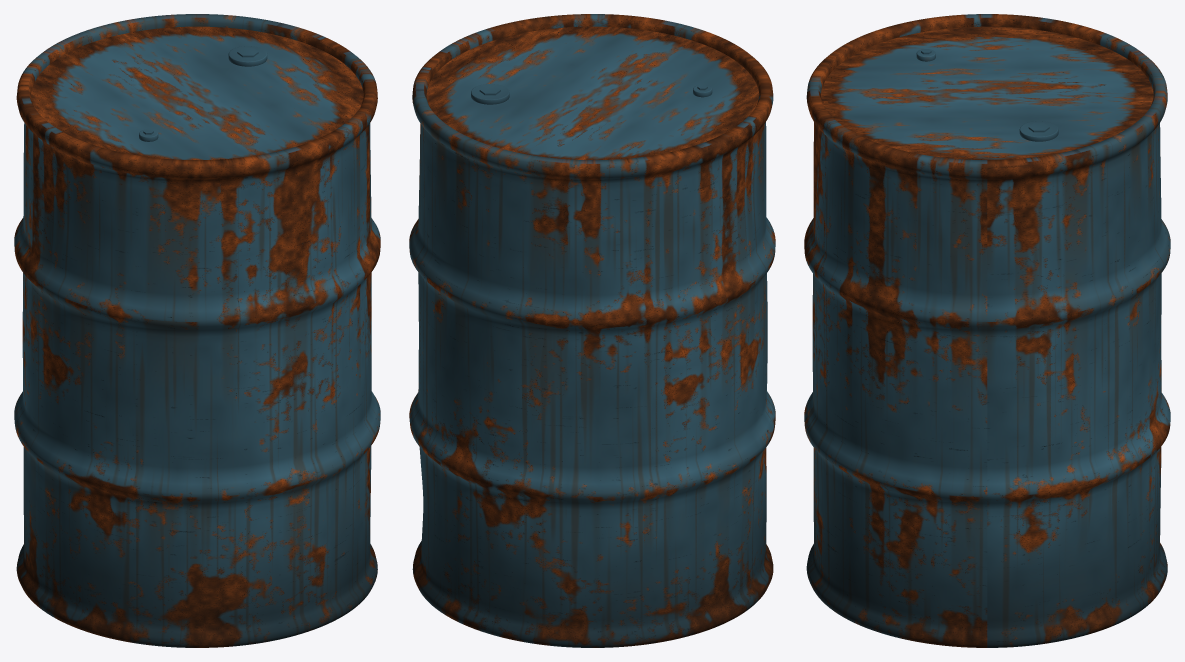
File: Drum_Blue.glb
3 views of the same model, side by side, from view 1: azimuth 30°, elevation 25°; view 2: azimuth 150°, elevation 25°; view 3: azimuth 270°, elevation 25° (orthographic).
Visible parts, largest first — view 1: Drum_Blue; view 2: Drum_Blue; view 3: Drum_Blue.
Boxes of the visible parts, x1,y1,x2,y2 form: Drum_Blue: (14, 14, 380, 647); Drum_Blue: (409, 14, 775, 647); Drum_Blue: (804, 14, 1170, 647).
Size of the model in its own units: 0.6011 by 0.88 by 0.6011.
1 material, 1 textured.
